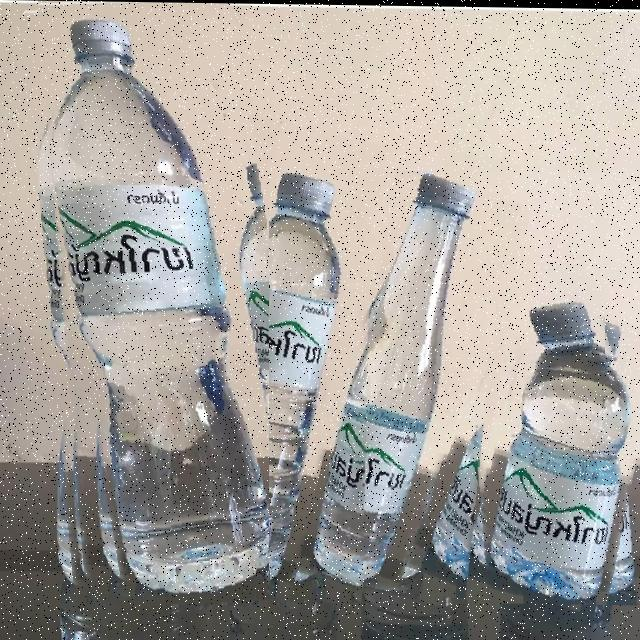plasticbottle: (37, 0, 269, 608), (146, 115, 373, 603), (282, 168, 510, 598), (465, 296, 640, 603)
plasticbottlecap: (498, 261, 605, 375)
